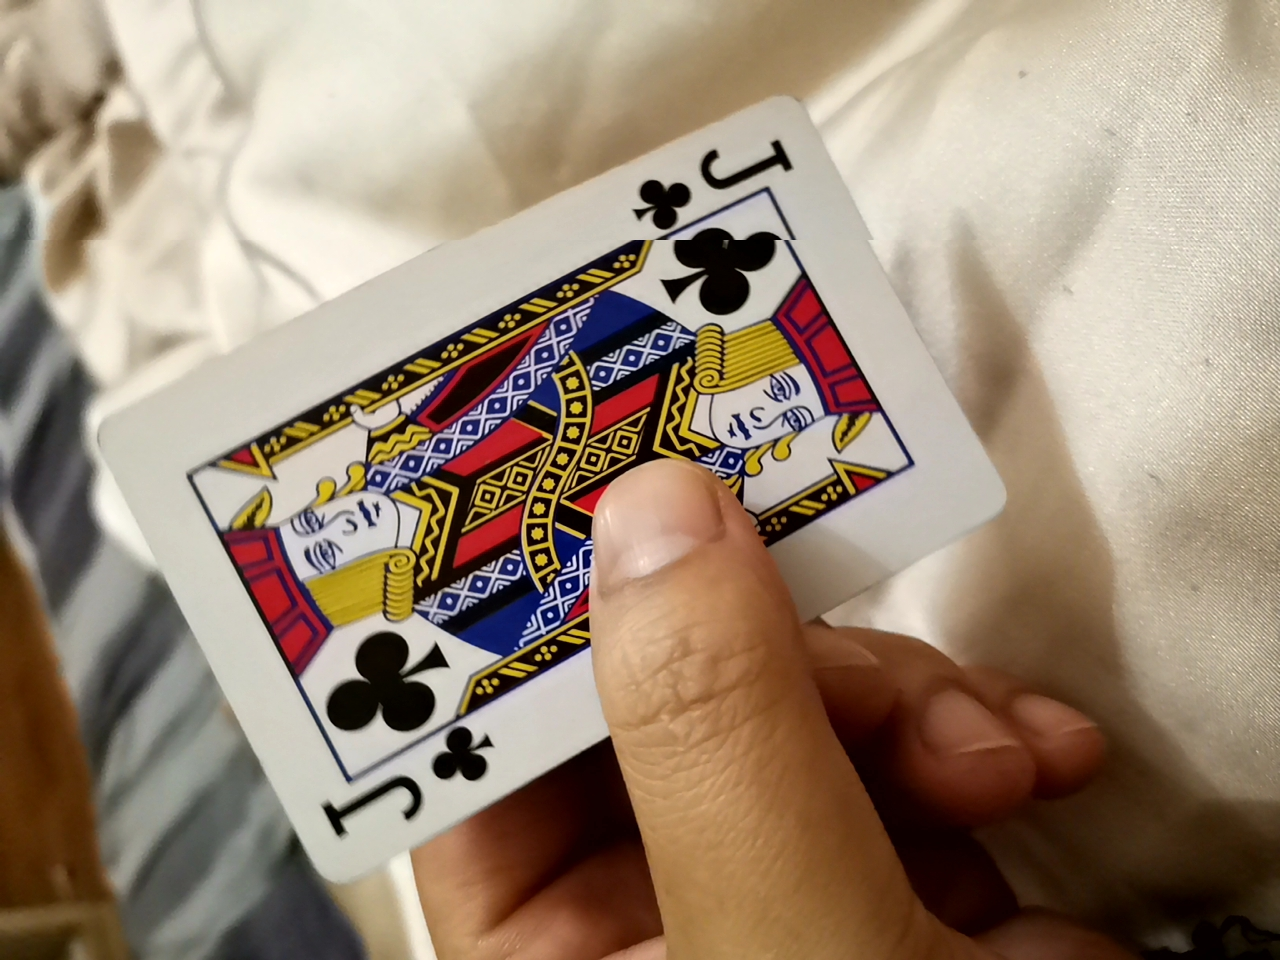mh j: (82, 64, 997, 855)
